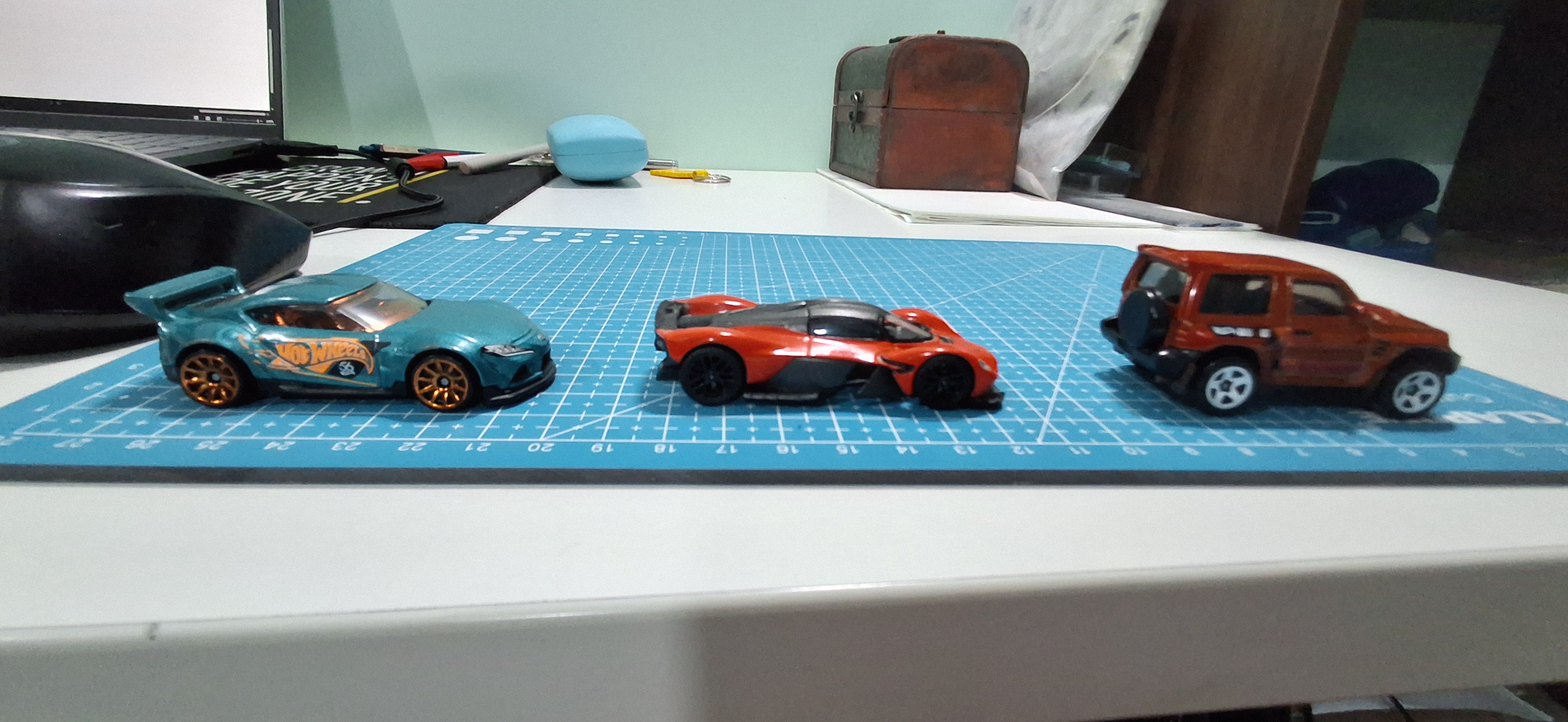Aston_Martin_Valkyrie: (623, 252, 1011, 452)
Mitsubishi_Pajero_Evolution: (1070, 233, 1494, 439)
Toyota_GR_Supra: (95, 225, 569, 440)
